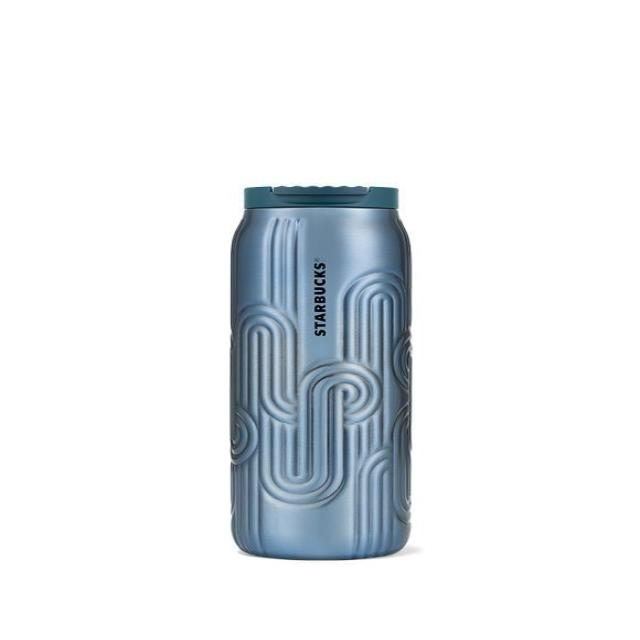Termos: (226, 182, 412, 561)
